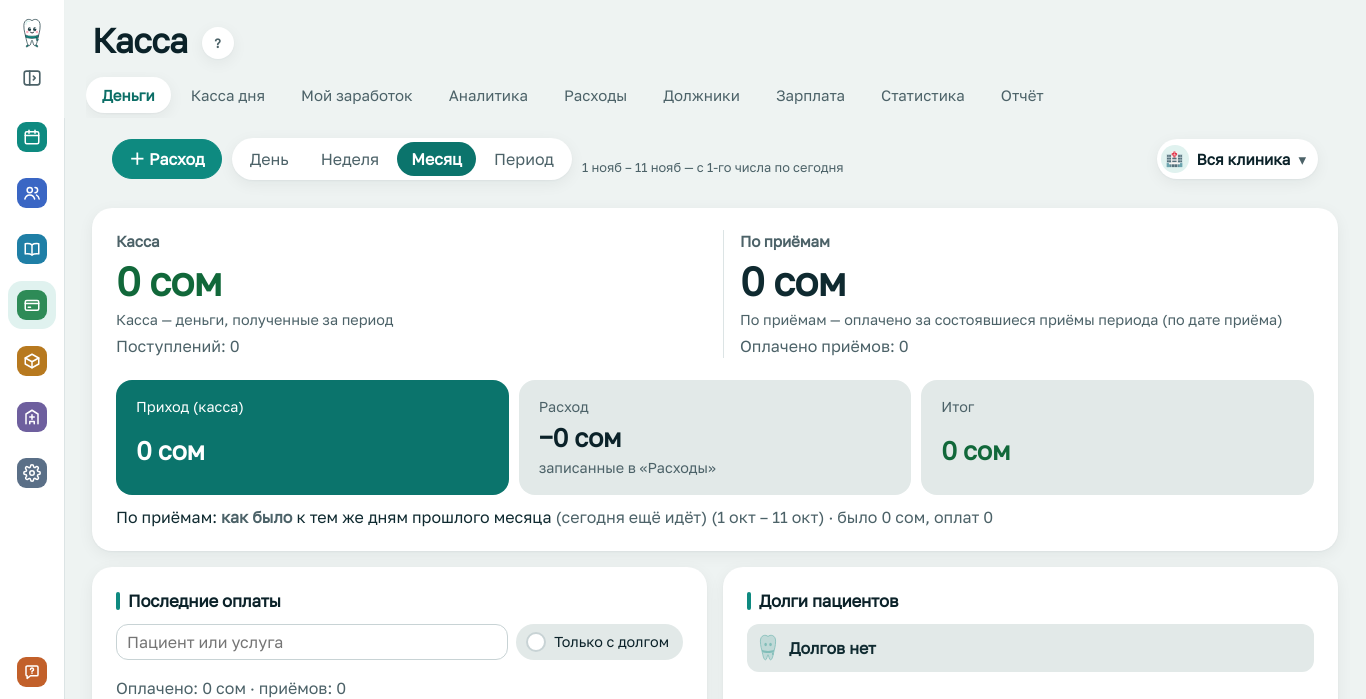
Test case: аналитика: «Диагнозы за период» — коды МКБ-10 по числу, скольким пациентам
Expected: the navigation bar named "Разделы" is shown, [8,113,56,497]
Click the link "Аналитика" at (488, 95), box [449,86,528,104]
(page scrolled)
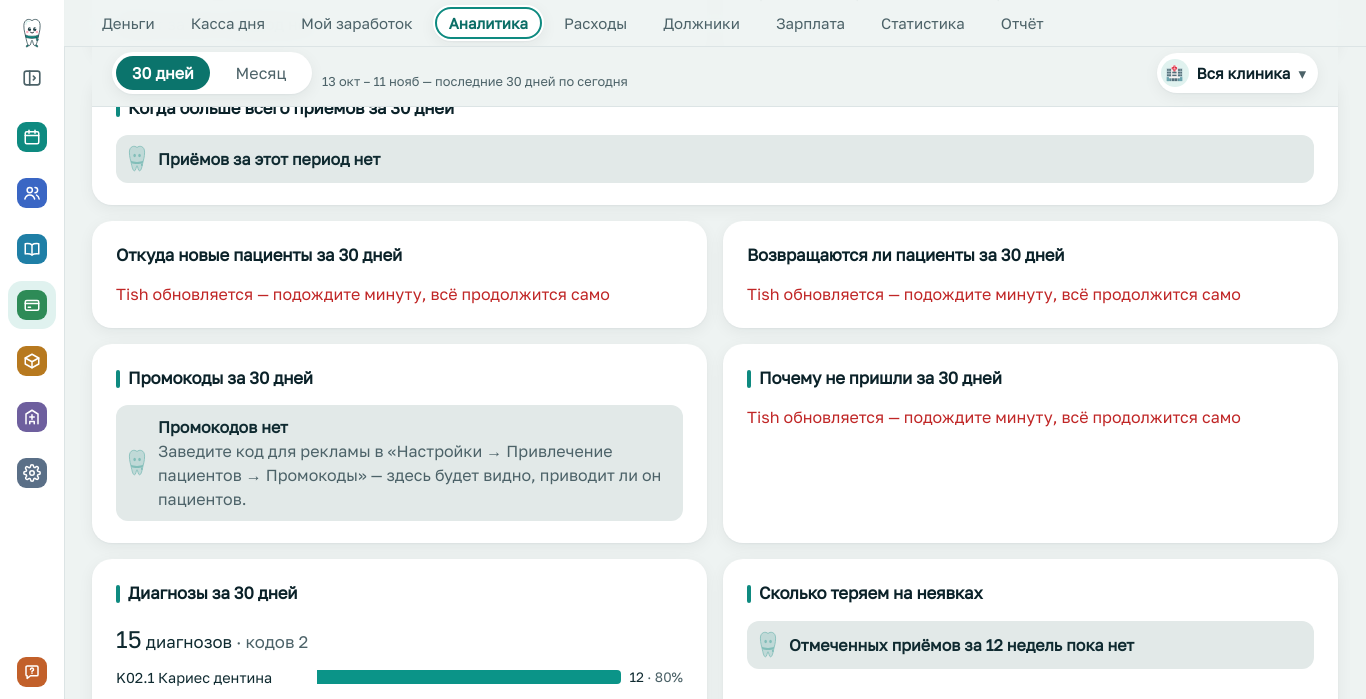
Expected: the text "15 диагнозов · кодов 2" is shown, [116,624,308,652]
